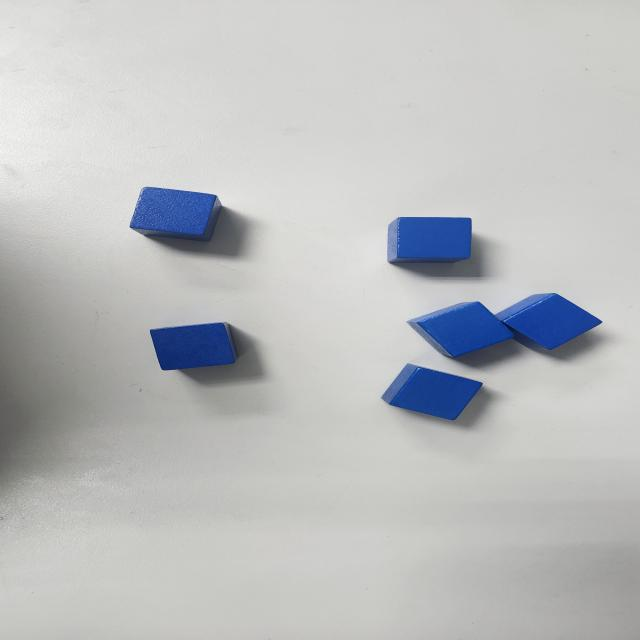blue: (493, 292, 602, 351), (406, 302, 514, 359), (381, 364, 484, 421), (129, 187, 221, 242), (148, 322, 237, 372), (387, 217, 472, 264)
